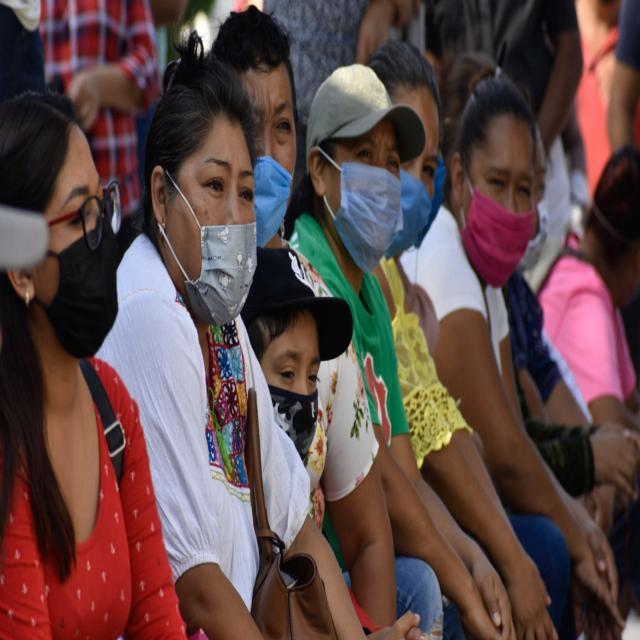adult: (110, 84, 362, 640), (294, 58, 518, 640), (419, 75, 608, 606), (382, 57, 554, 640), (0, 96, 174, 639), (206, 10, 294, 237)
child: (241, 235, 325, 447)
